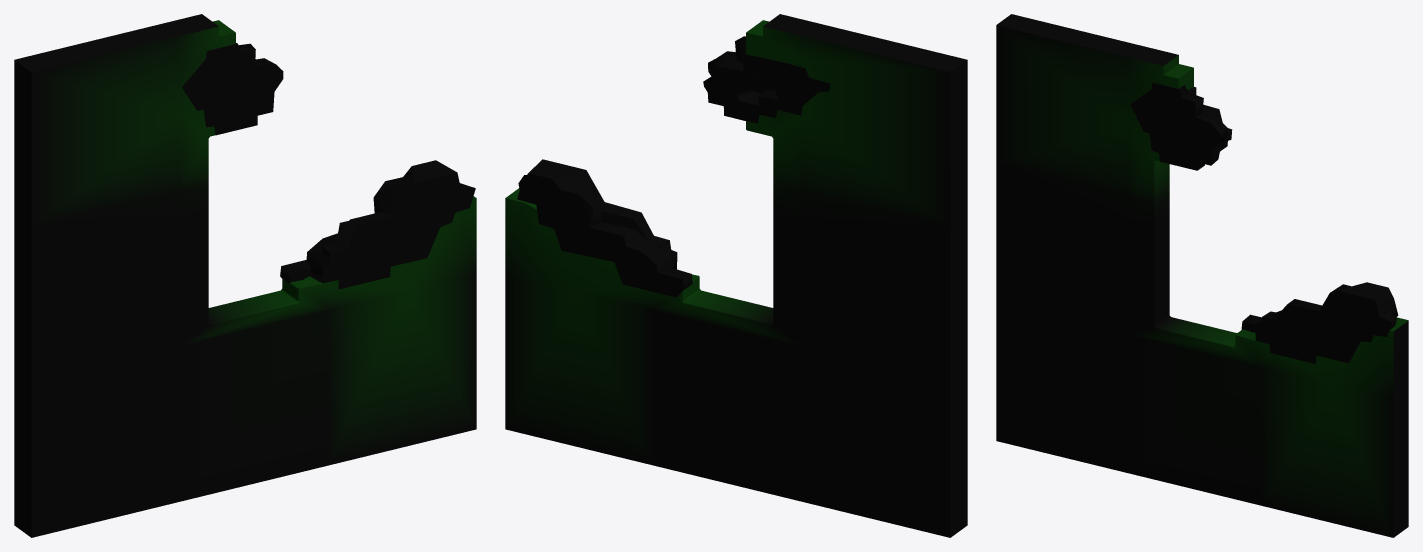
Rendered from DBK_Brick_WinSmall_90_A.fbx.
3 renders of one model, left to right at view 1: azimuth 30°, elevation 25°; view 2: azimuth 150°, elevation 25°; view 3: azimuth 330°, elevation 25°, orthographic. The views are drawn at different scales.
Parts seen in each view (by area): view 1: DBK_Brick_WinSmall_90_A; view 2: DBK_Brick_WinSmall_90_A; view 3: DBK_Brick_WinSmall_90_A.
Part boxes in pixels (x1,y1,x2,y2): DBK_Brick_WinSmall_90_A: [14, 14, 476, 537]; DBK_Brick_WinSmall_90_A: [505, 14, 967, 537]; DBK_Brick_WinSmall_90_A: [996, 14, 1408, 537].
Size of the model in its own units: 300 by 300 by 21.05.
